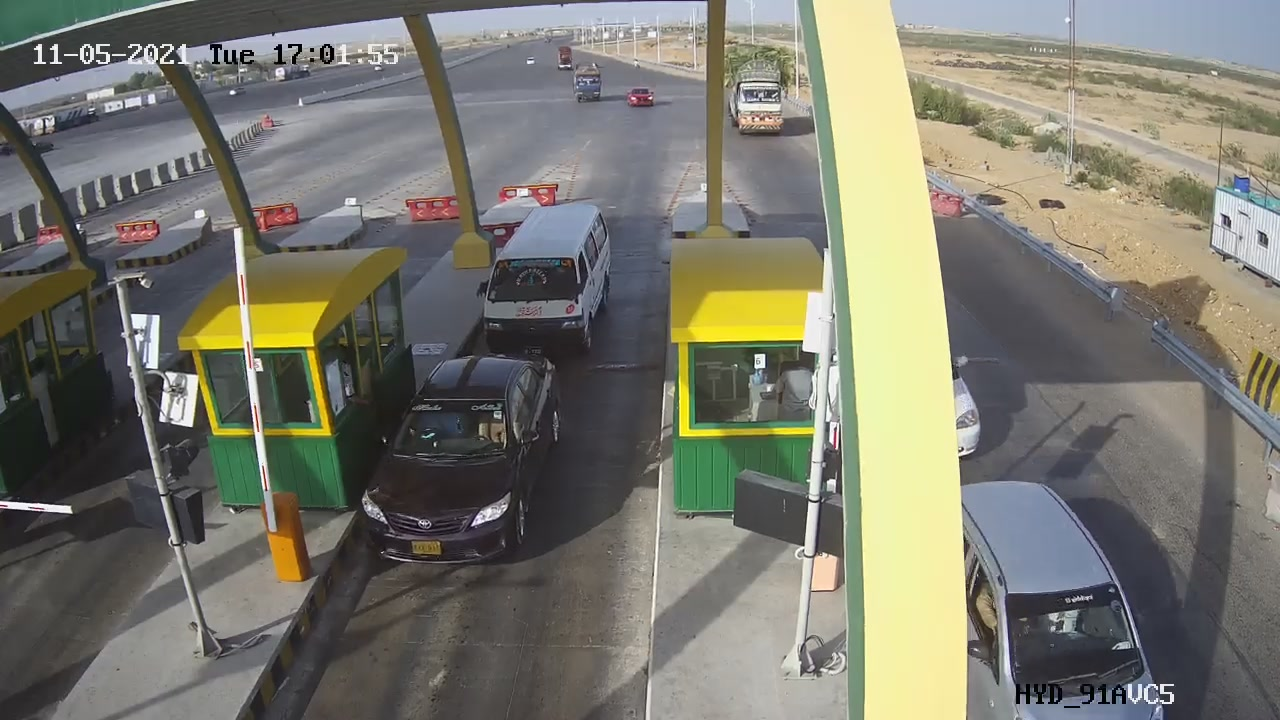F1: (348, 338, 579, 588)
F2: (471, 188, 624, 359)
